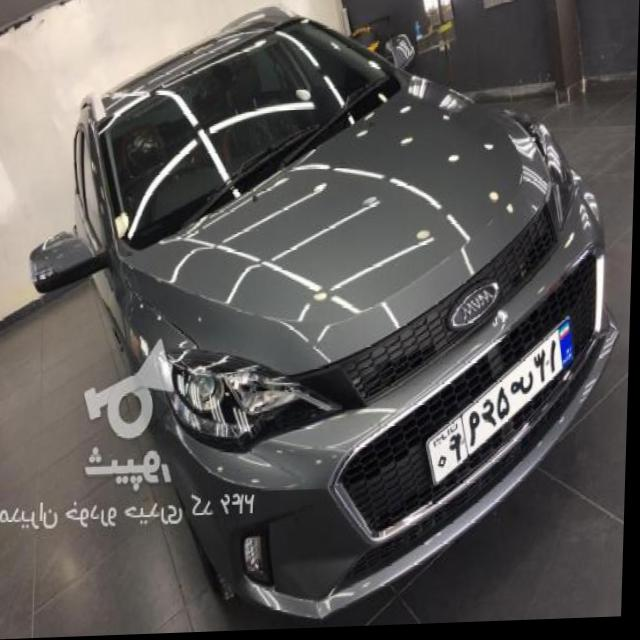licence: (432, 315, 575, 493)
